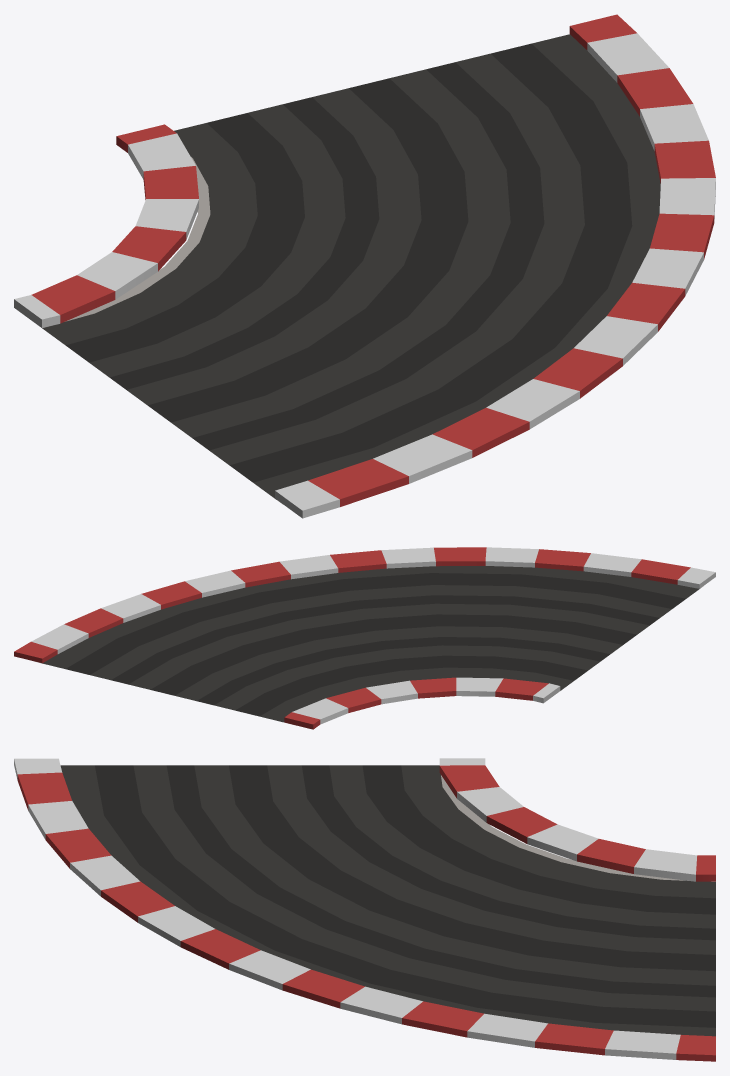
Rendered from Road_Corner.fbx.
3 views of the same model, one above another, from view 1: azimuth 30°, elevation 25°; view 2: azimuth 150°, elevation 25°; view 3: azimuth 270°, elevation 25° (orthographic). The views are drawn at different scales.
Parts seen in each view (by area): view 1: Road_Corner; view 2: Road_Corner; view 3: Road_Corner.
Part boxes in pixels (bbox=[...]): Road_Corner: bbox=[14, 14, 715, 518]; Road_Corner: bbox=[14, 547, 715, 729]; Road_Corner: bbox=[14, 758, 715, 1061].
Bounding box in the file's own units: 30 × 0.3325 × 30.
